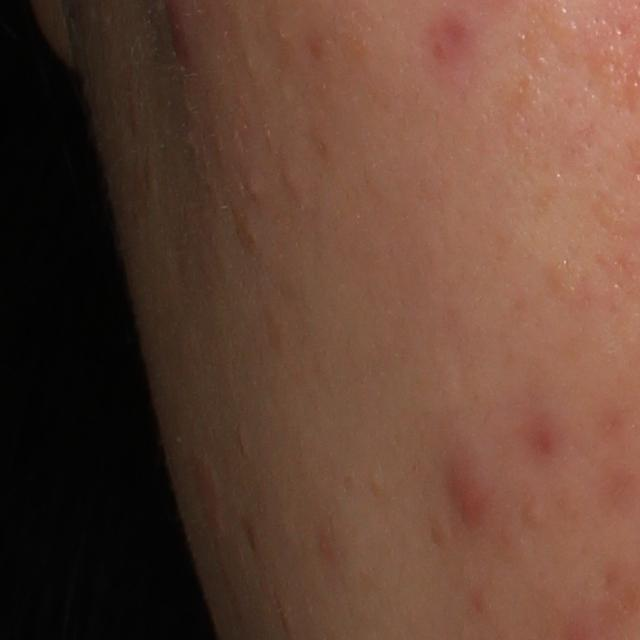comedo: (520, 498, 546, 528)
